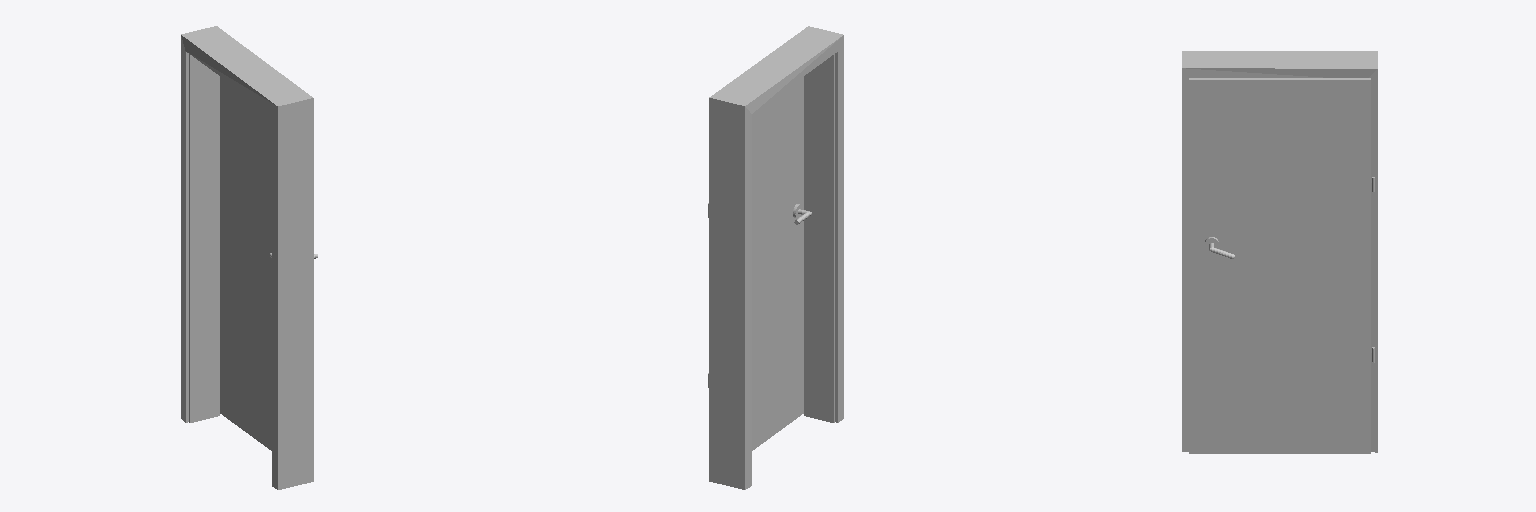
File: door75.obj
3 views of the same model, side by side, from view 1: azimuth 30°, elevation 25°; view 2: azimuth 150°, elevation 25°; view 3: azimuth 270°, elevation 25° (orthographic).
Visible parts, largest first — view 1: Cylinder.005, Cylinder.001; view 2: Cylinder.005, Cylinder.001; view 3: Cylinder.001, Cylinder.005.
Part boxes in pixels (x1,y1,x2,y2): Cylinder.005: (181,26,313,489); Cylinder.001: (220,77,271,450); Cylinder.005: (708,26,843,489); Cylinder.001: (708,77,803,450); Cylinder.001: (1189,78,1374,453); Cylinder.005: (1182,51,1377,452).
Size of the model in its own units: 0.3039 by 2.05 by 0.95.